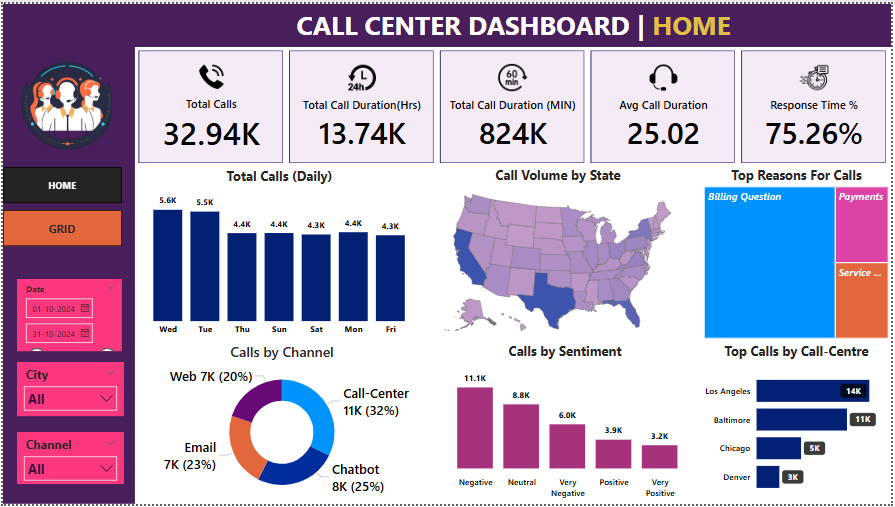

This screenshot's page, from the dashboard's own definition file:
{"tool":"powerbi","page":{"name":"HOME","canvas":[1280,720],"ordinal":0},"visuals":[{"type":"shape","box":[0,0,1280.2,61.9],"z":0},{"type":"shape","box":[0,40.3,190.1,679.7],"z":1000},{"type":"textbox","box":[190.1,0,1090.1,61.9],"z":2000},{"type":"image","box":[0,61.9,190.1,172.8],"z":3000},{"type":"cardVisual","fields":{"Data":["Call Center_Call Center.TOTAL CALLS","Call Center_Call Center.Total Call Duration (hrs)","Call Center_Call Center.TOTAL CALL DURATION (MIN)","Call Center_Call Center.AVG CALL DURATION","Call Center_Call Center.Response"]},"box":[190.1,61.9,1090.1,172.8],"z":4000},{"type":"columnChart","title":"Total Calls (Daily)","fields":{"Category":["DateTable.Day"],"Y":["Call Center_Call Center.Total Calls"]},"box":[190.1,234.7,416.2,252],"z":5000},{"type":"shapeMap","title":"Call Volume by State","fields":{"Category":["Call Center_Call Center.State"],"Value":["Call Center_Call Center.Total Calls"]},"box":[593.3,233.3,411.8,253.4],"z":6000},{"type":"treemap","title":"Top Reasons For Calls","fields":{"Group":["Call Center_Call Center.Reason"],"Values":["Call Center_Call Center.Total Calls"]},"box":[1005.1,233.3,275,253.4],"z":7000},{"type":"donutChart","title":" Calls by Channel","fields":{"Category":["Call Center_Call Center.Channel"],"Y":["Call Center_Call Center.Total Calls"]},"box":[190.1,486.7,423.4,233.3],"z":8000},{"type":"columnChart","title":"Calls by Sentiment","fields":{"Y":["Call Center_Call Center.Total Calls"],"Category":["Call Center_Call Center.Sentiment"]},"box":[613.4,486.7,391.7,233.3],"z":9000},{"type":"clusteredBarChart","title":"Top Calls by Call-Centre","fields":{"Category":["Call Center_Call Center.Call-Centres City"],"Y":["Call Center_Call Center.Total Calls"]},"box":[1005,487,275,233],"z":10000},{"type":"slicer","fields":{"Values":["DateTable.Date"]},"box":[20.2,396,151.2,103.7],"z":11000},{"type":"slicer","fields":{"Values":["Call Center_Call Center.City"]},"box":[20.2,515.5,154.1,77.8],"z":12000},{"type":"slicer","fields":{"Values":["Call Center_Call Center.Channel"]},"box":[20.2,616.3,154.1,74.9],"z":13000},{"type":"pageNavigator","box":[0,234.7,171.4,115.2],"z":14000}]}

Visuals, with their boxes in screenshot pixels (x1, y1, x2, y2), scaled from the page's 1280x720 canvas onto the 895x507 screenshot:
shape: [0,0,894,44]
shape: [0,28,133,506]
textbox: [133,0,894,44]
image: [0,44,133,165]
cardVisual - Call Center_Call Center.TOTAL CALLS x Call Center_Call Center.Total Call Duration (hrs): [133,44,894,165]
"Total Calls (Daily)" columnChart: [133,165,424,343]
"Call Volume by State" shapeMap: [415,164,703,343]
"Top Reasons For Calls" treemap: [703,164,894,343]
" Calls by Channel" donutChart: [133,343,429,506]
"Calls by Sentiment" columnChart: [429,343,703,506]
"Top Calls by Call-Centre" clusteredBarChart: [703,343,894,506]
slicer - DateTable.Date: [14,279,120,352]
slicer - Call Center_Call Center.City: [14,363,122,418]
slicer - Call Center_Call Center.Channel: [14,434,122,487]
pageNavigator: [0,165,120,246]
